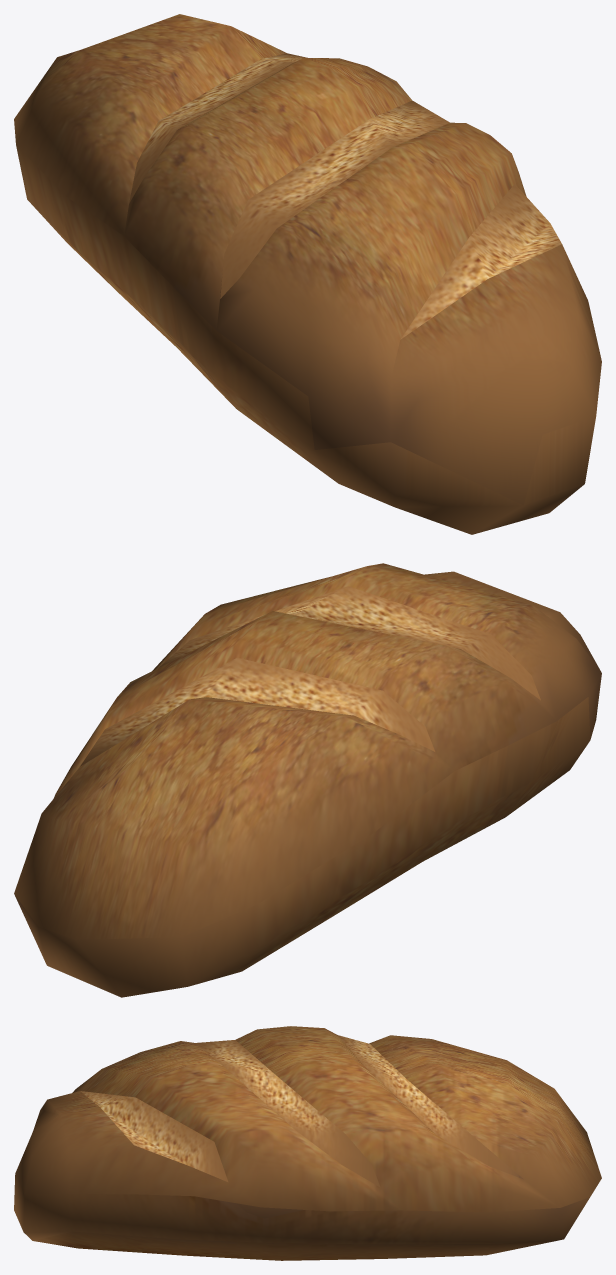
File: Bread2.obj
3 views of the same model, one above another, from view 1: azimuth 30°, elevation 25°; view 2: azimuth 150°, elevation 25°; view 3: azimuth 270°, elevation 25° (orthographic). The views are drawn at different scales.
Visible parts, largest first — view 1: bread; view 2: bread; view 3: bread.
Part boxes in pixels (bbox=[...]): bread: bbox=[14, 14, 601, 534]; bread: bbox=[14, 563, 601, 997]; bread: bbox=[14, 1026, 601, 1260].
Bounding box in the file's own units: 0.7542 × 0.5653 × 1.59.
1 material, 1 textured.
